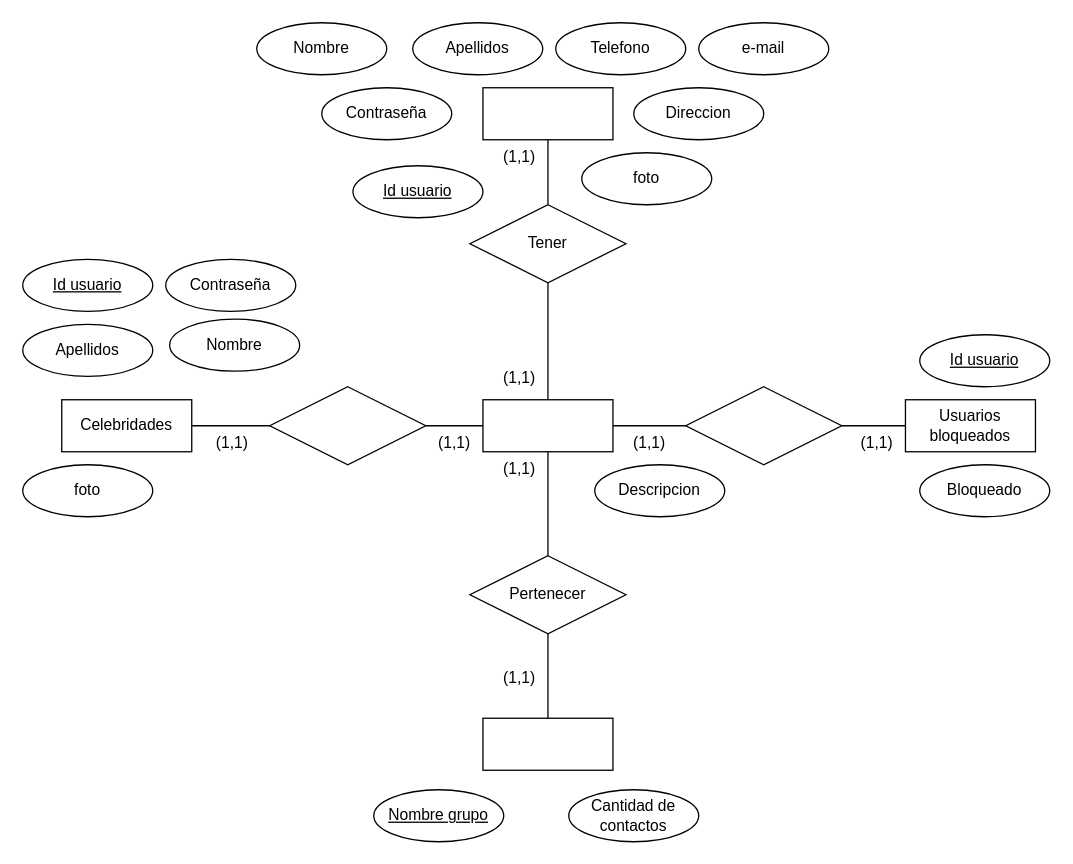
Image size: 1073x864. Some labels were removed from this diagram. The centre of each missing label's shape, as x and y in pixels:
"Bloquear" belongs at (x=763, y=425).
"Contactos" belongs at (x=547, y=425).
"Grupos" belongs at (x=547, y=743).
"Hacer" belongs at (x=347, y=425).
"Usuarios" belongs at (x=547, y=113).
